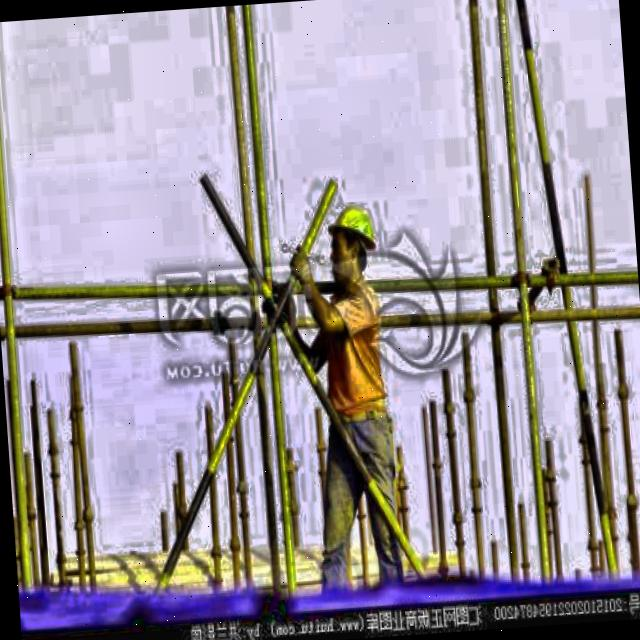helmet: (326, 192, 382, 296)
